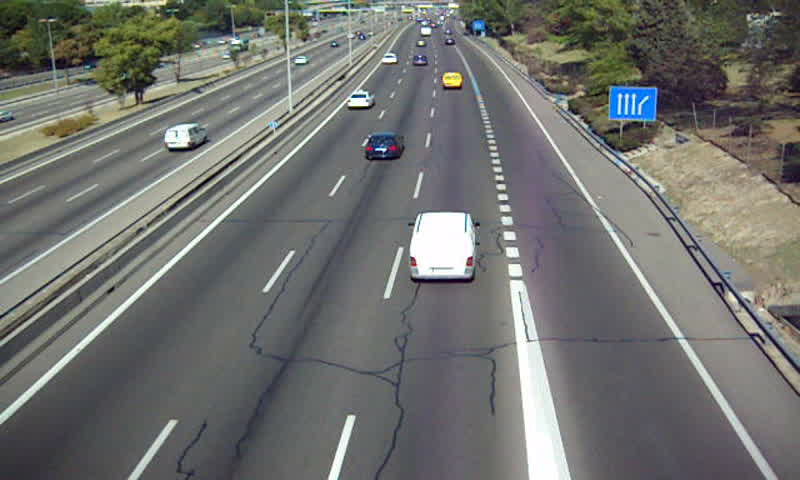car: (363, 134, 404, 160), (346, 91, 373, 109), (412, 52, 428, 68), (381, 52, 396, 64)
van: (409, 212, 478, 281), (441, 72, 463, 89)
